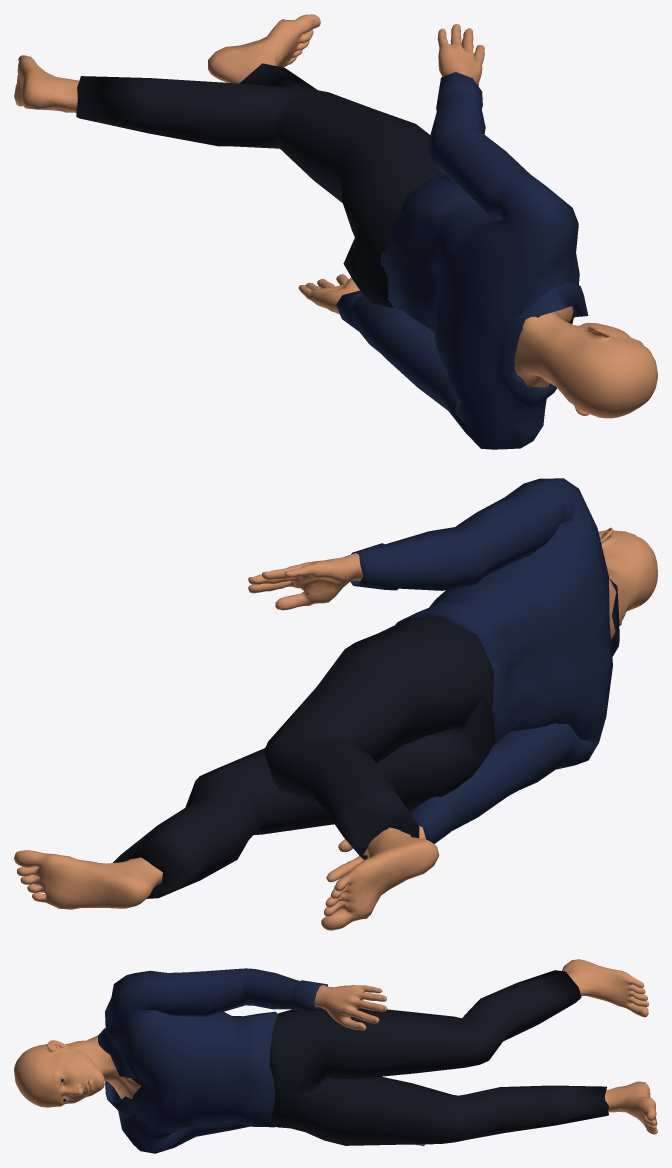
File: walk.obj
3 renders of one model, top to bottom at view 1: azimuth 30°, elevation 25°; view 2: azimuth 150°, elevation 25°; view 3: azimuth 270°, elevation 25°, orthographic. The views are drawn at different scales.
Bounding box in the file's own units: 0.7453 × 0.5634 × 1.68.
